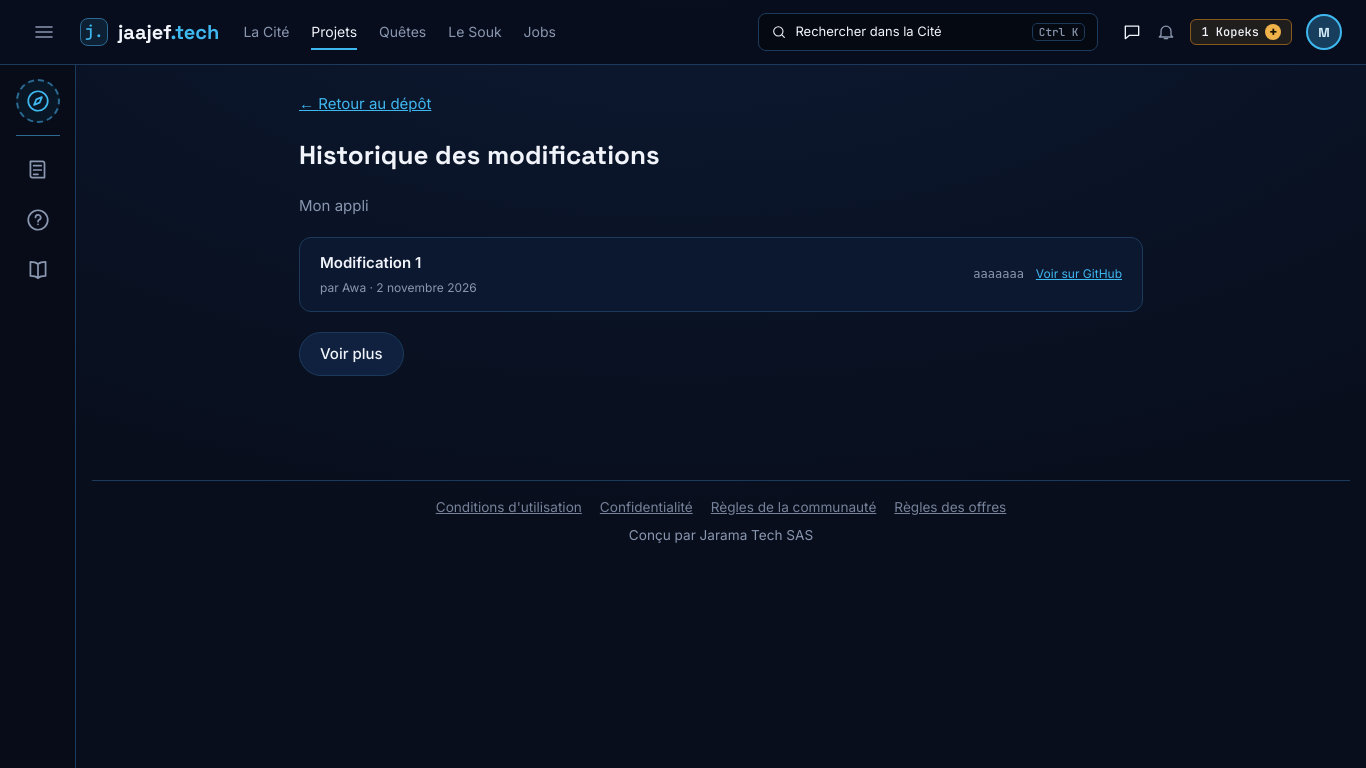
Scenario: Change history › loads more commits on request
Click the button "Voir plus": (351, 354) [299, 332, 404, 376]
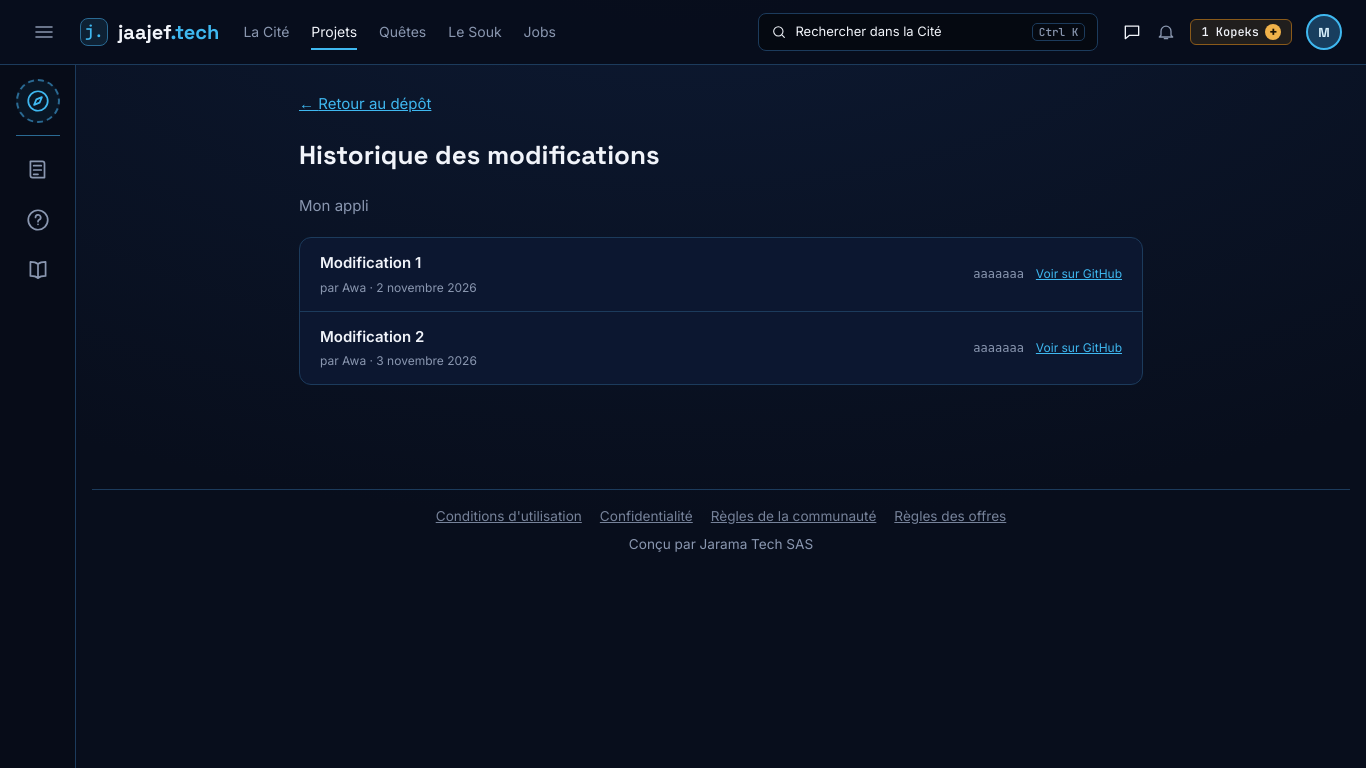
Expected: the text "Modification 1" is shown, [320, 253, 421, 272]
Expected: the text "Modification 2" is shown, [320, 326, 424, 346]
Expected: the button "Voir plus" is gone
